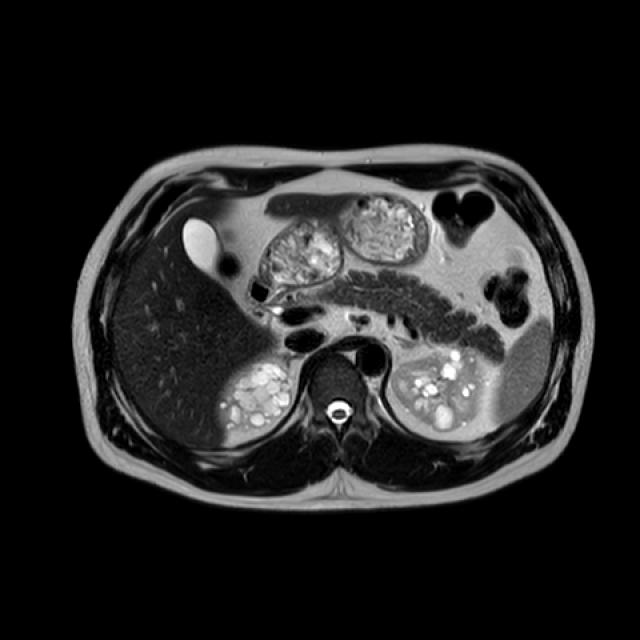sag: (215, 359, 295, 429)
sol: (394, 347, 483, 433)
